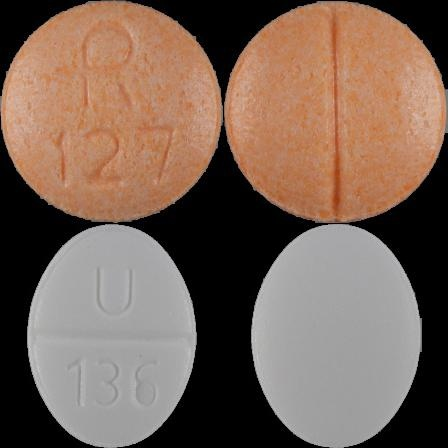61919-266: (0, 0, 224, 224)
